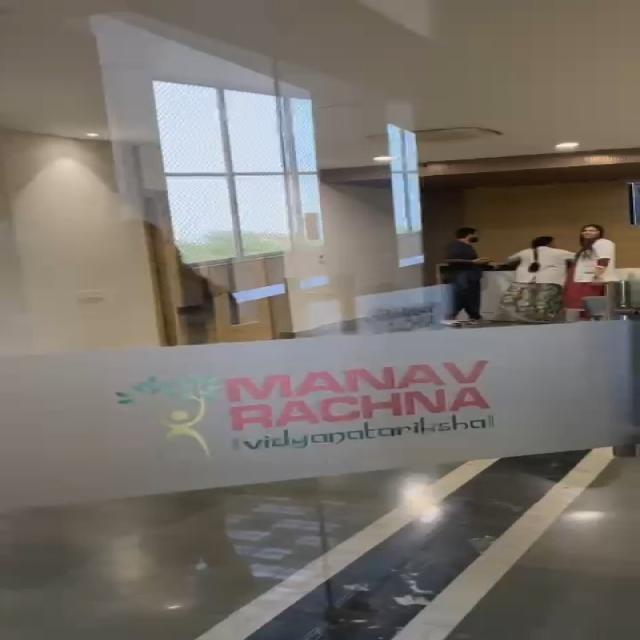moving_object: (401, 216, 624, 342)
